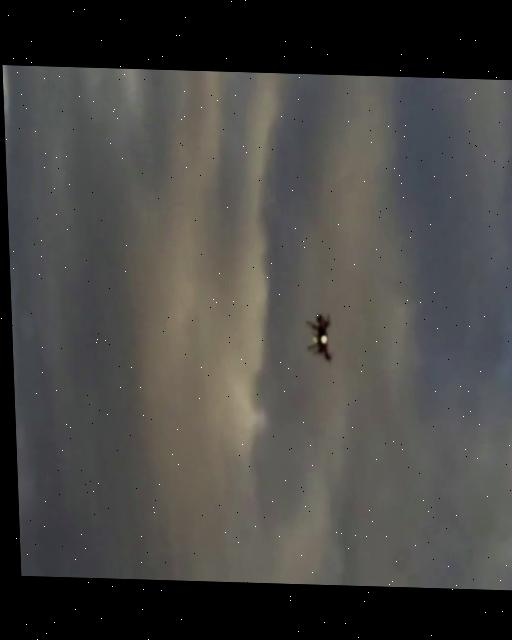drone: (301, 301, 336, 366)
